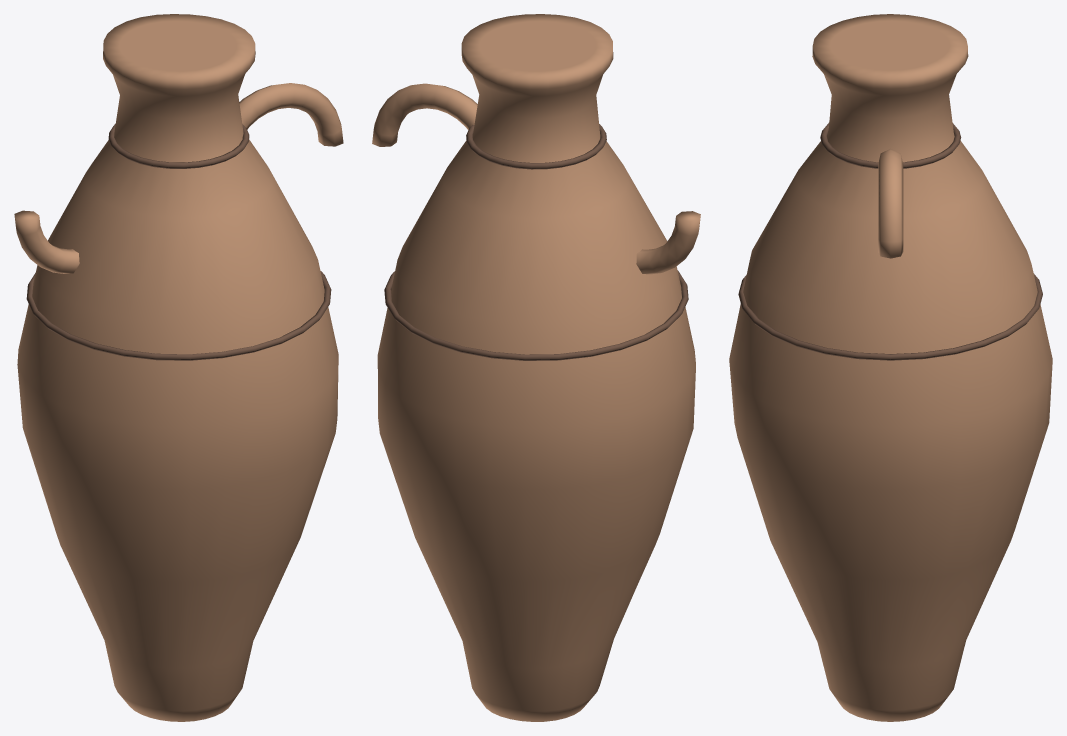
The model's file is amphora.glb.
3 views of the same model, side by side, from view 1: azimuth 30°, elevation 25°; view 2: azimuth 150°, elevation 25°; view 3: azimuth 270°, elevation 25° (orthographic).
Parts seen in each view (by area): view 1: amphora_body, amphora_handles, amphora_bands; view 2: amphora_body, amphora_handles, amphora_bands; view 3: amphora_body, amphora_bands, amphora_handles.
Part boxes in pixels (x1,y1,x2,y2): amphora_body: (17, 14, 338, 721); amphora_handles: (14, 83, 343, 273); amphora_bands: (26, 124, 331, 360); amphora_body: (377, 14, 695, 721); amphora_handles: (372, 83, 700, 274); amphora_bands: (384, 124, 688, 360); amphora_body: (729, 14, 1052, 721); amphora_bands: (738, 122, 1042, 360); amphora_handles: (878, 148, 903, 258).
Bounding box in the file's own units: 0.644 × 1.23 × 0.5526.
